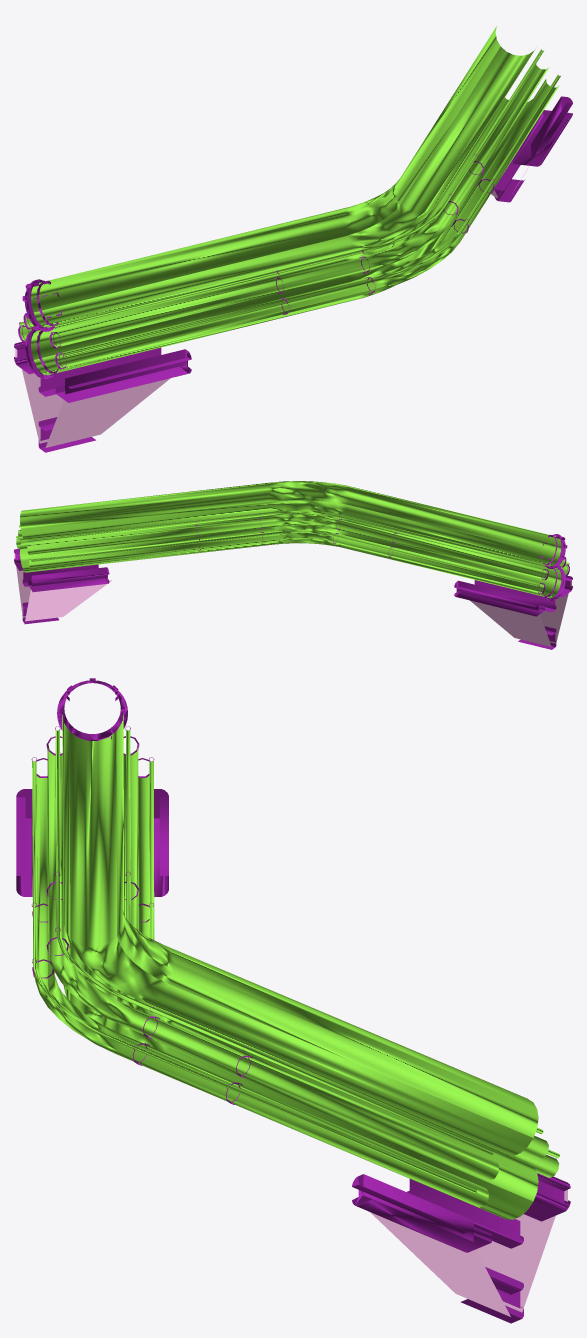
Rendered from pipeline_b_45d_185m_b.glb.
The picture shows the model from 3 angles, top to bottom: view 1: azimuth 30°, elevation 25°; view 2: azimuth 150°, elevation 25°; view 3: azimuth 270°, elevation 25°; orthographic projection. The views are drawn at different scales.
Bounding box in the file's own units: 180 × 42.87 × 95.24.
